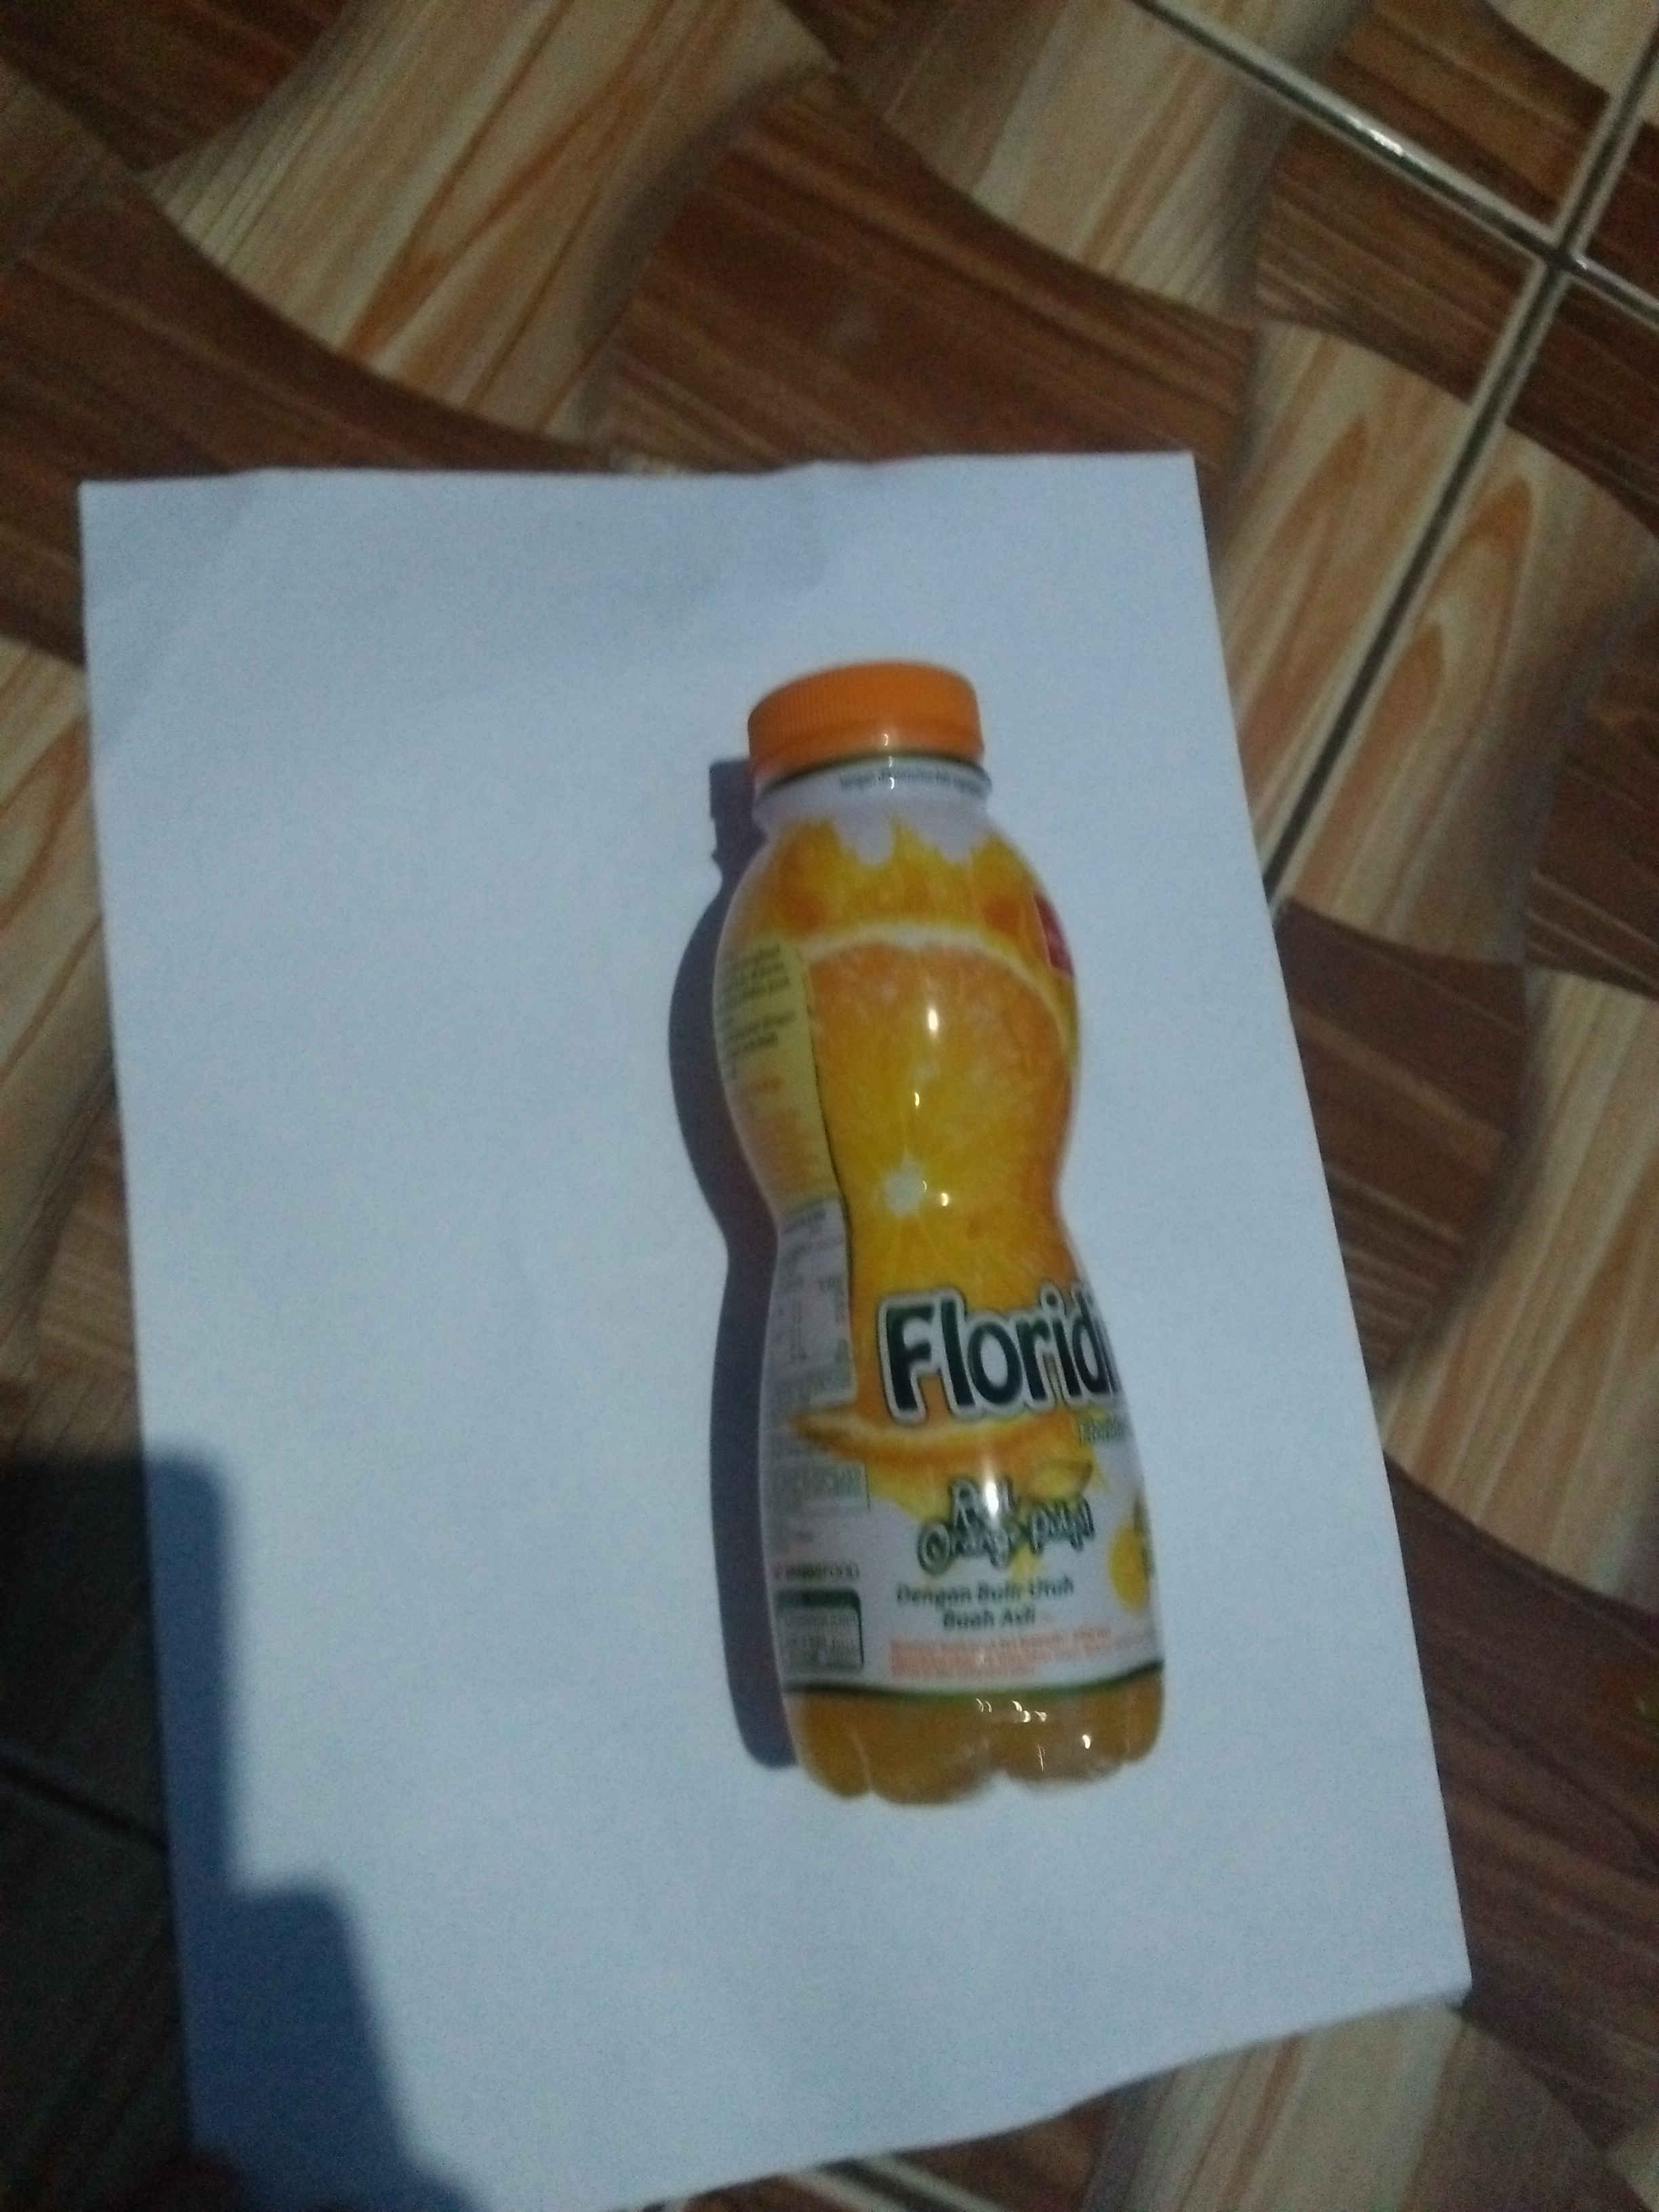Floridina: (701, 644, 1195, 1811)
